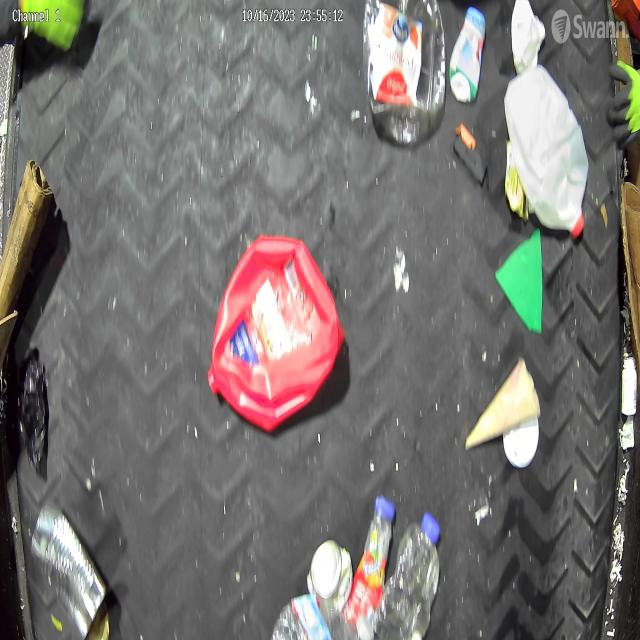can: (30, 506, 109, 639), (307, 539, 352, 612)
milk_jug: (506, 66, 588, 239)
non_white_jug: (206, 236, 346, 430), (364, 0, 444, 149)
plastic_bottle: (372, 512, 442, 640), (350, 494, 396, 638), (270, 590, 344, 638)
